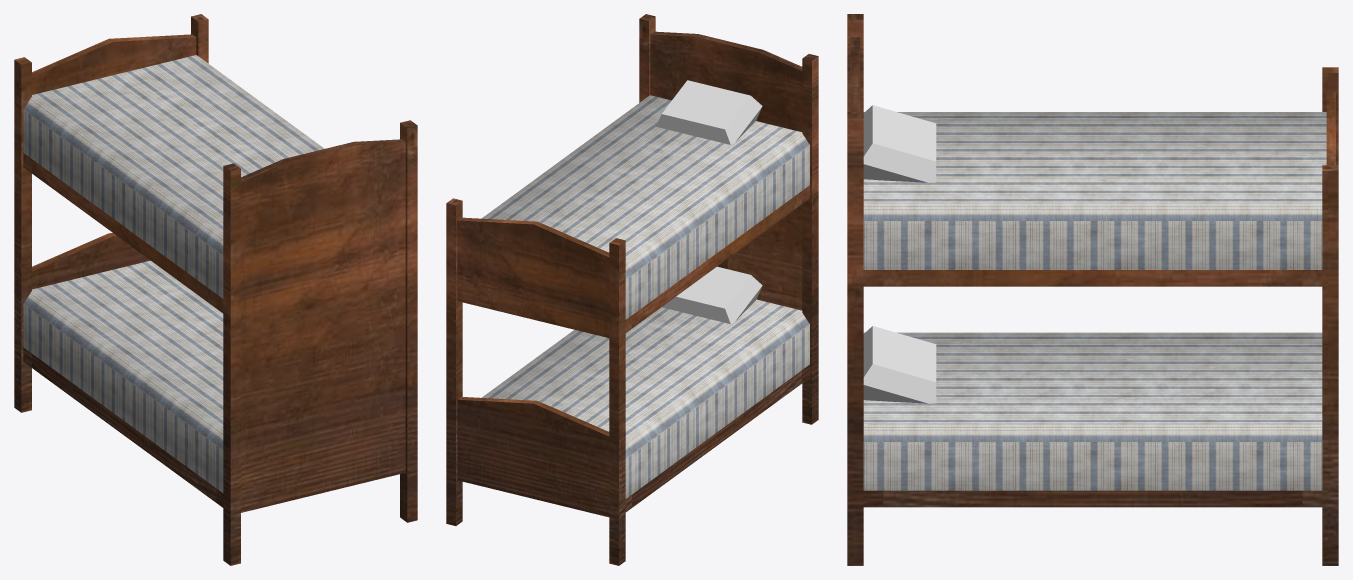
The model's file is bunkbed.fbx.
3 renders of one model, left to right at view 1: azimuth 30°, elevation 25°; view 2: azimuth 150°, elevation 25°; view 3: azimuth 270°, elevation 25°, orthographic. The views are drawn at different scales.
Parts seen in each view (by area): view 1: Bed_02.001; view 2: Bed_02.001; view 3: Bed_02.001.
Part boxes in pixels (x1,y1,x2,y2): Bed_02.001: (14, 14, 417, 565); Bed_02.001: (446, 14, 818, 565); Bed_02.001: (847, 14, 1338, 565).
Size of the model in its own units: 124 by 249 by 248.
